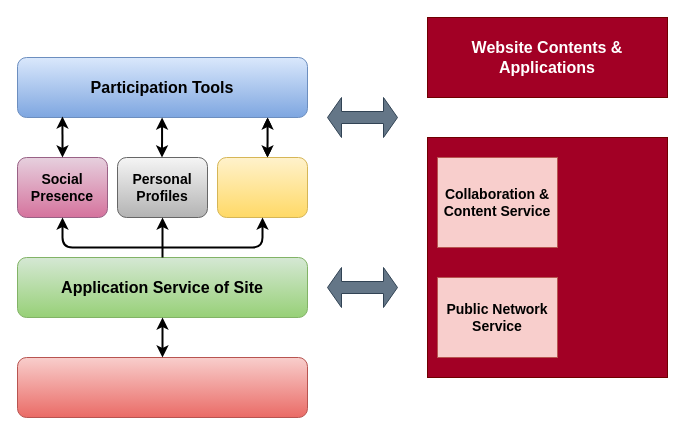
Some shapes in this 685 by 435 pixel diagram are drawn without their labels. Each missing label, with the box of its shape:
Connections: (216, 156, 308, 218)
Infrastructure Services Model: (426, 136, 668, 378)
Relation Controls: (16, 356, 308, 418)
